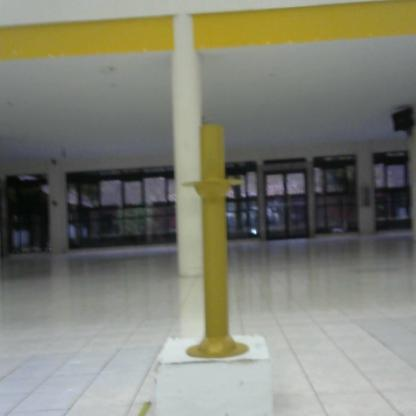pole: (177, 123, 253, 365)
